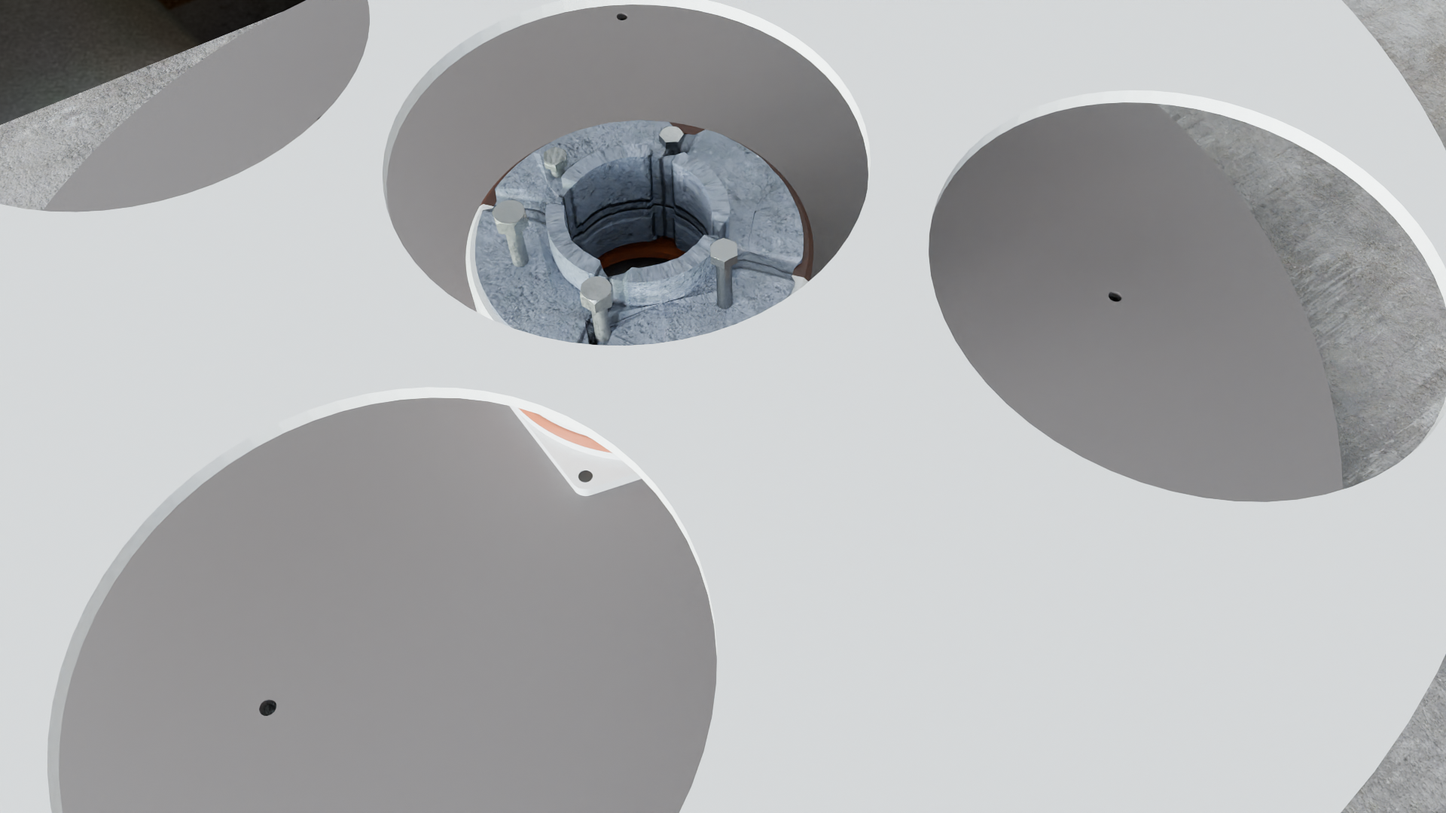bolt: (493, 199, 527, 227), (580, 276, 612, 305), (710, 238, 737, 262), (544, 147, 566, 166), (659, 126, 684, 142)
